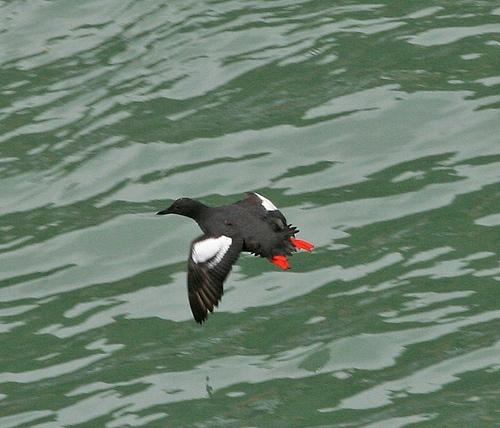bird: (154, 190, 319, 325)
